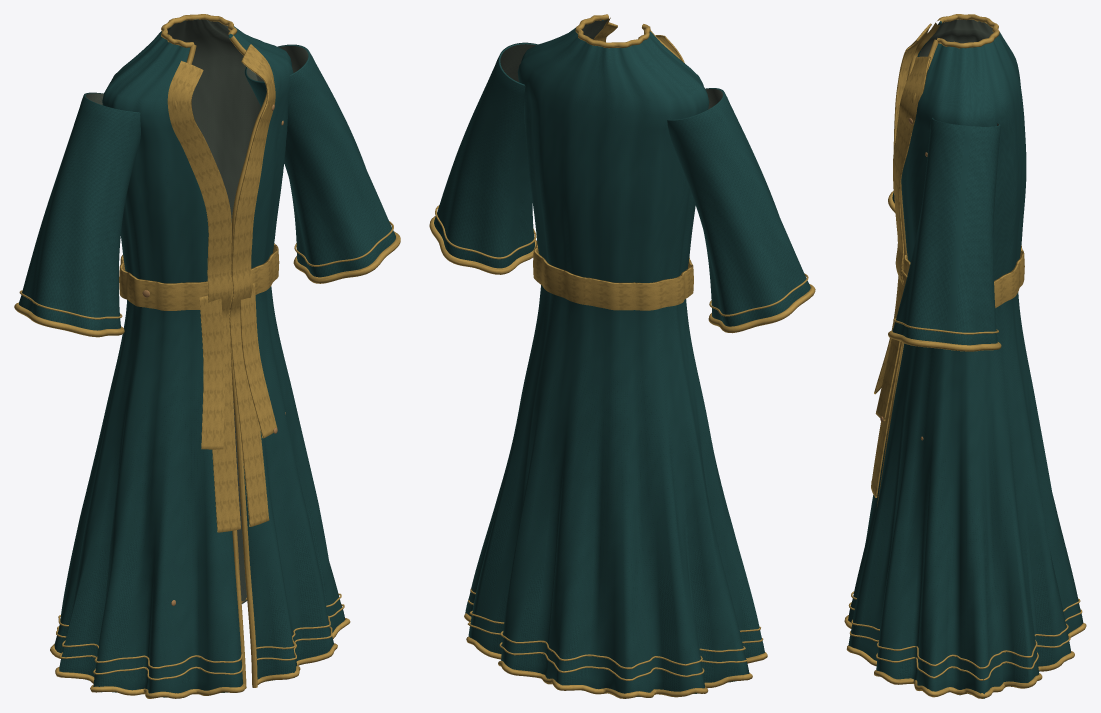
3 views of the same model, side by side, from view 1: azimuth 30°, elevation 25°; view 2: azimuth 150°, elevation 25°; view 3: azimuth 270°, elevation 25° (orthographic).
Parts seen in each view (by area): view 1: woven wool, gilded alloy, brushed wool lining; view 2: woven wool, gilded alloy, brushed wool lining; view 3: woven wool, gilded alloy, brushed wool lining.
Part boxes in pixels (x1,y1,x2,y2): woven wool: [19, 19, 395, 697]; gilded alloy: [14, 14, 400, 698]; brushed wool lining: [85, 19, 308, 603]; woven wool: [434, 20, 810, 698]; gilded alloy: [429, 14, 815, 698]; brushed wool lining: [500, 19, 722, 109]; woven wool: [848, 21, 1083, 698]; gilded alloy: [844, 14, 1086, 698]; brushed wool lining: [919, 19, 998, 125].
Bounding box in the file's own units: 0.868 × 1.42 × 0.507.
4 materials, 3 textured.
